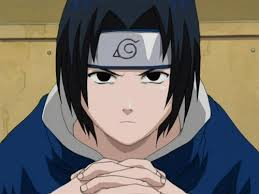sasuke: (72, 27, 183, 149)
